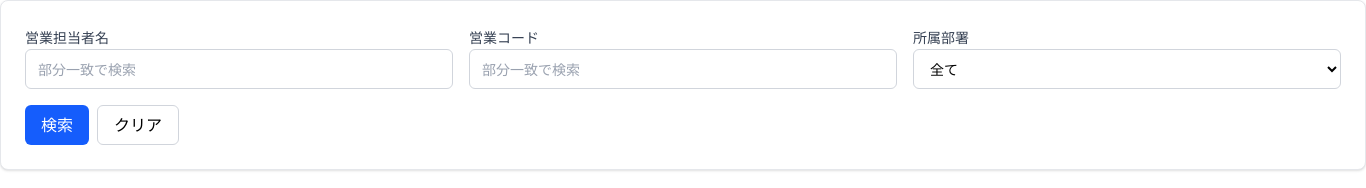
Test: SalesSearchForm › クリアボタンをクリックすると入力値がリセットされる
Type "山田太郎" into the field labelled "営業担当者名" at (239, 69), box [25, 49, 453, 89]
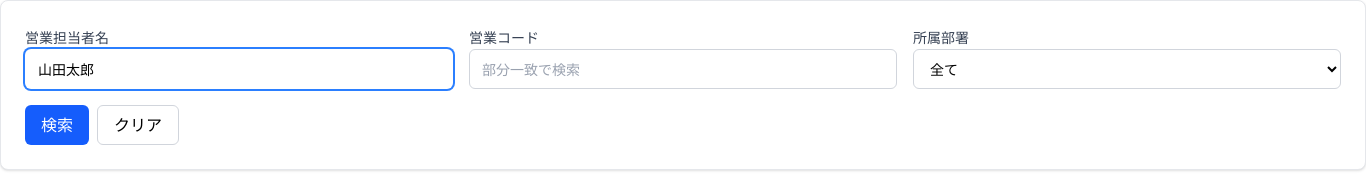
Type "S001" into the field labelled "営業コード" at (683, 69), box [469, 49, 897, 89]
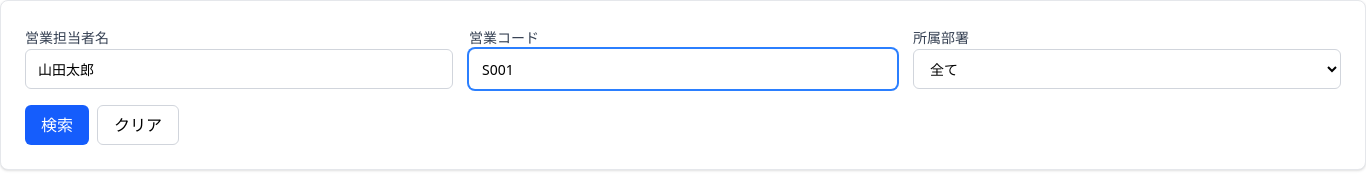
Click the button "クリア" at (138, 125), box [97, 105, 179, 145]
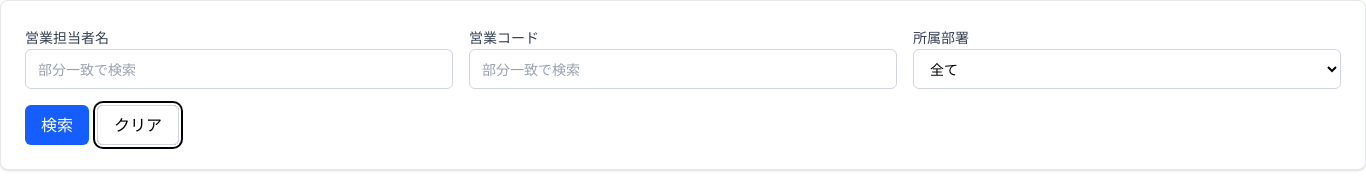
expect the field labelled "営業担当者名" is empty: met, box [25, 49, 453, 89]
expect the field labelled "営業コード" is empty: met, box [469, 49, 897, 89]
